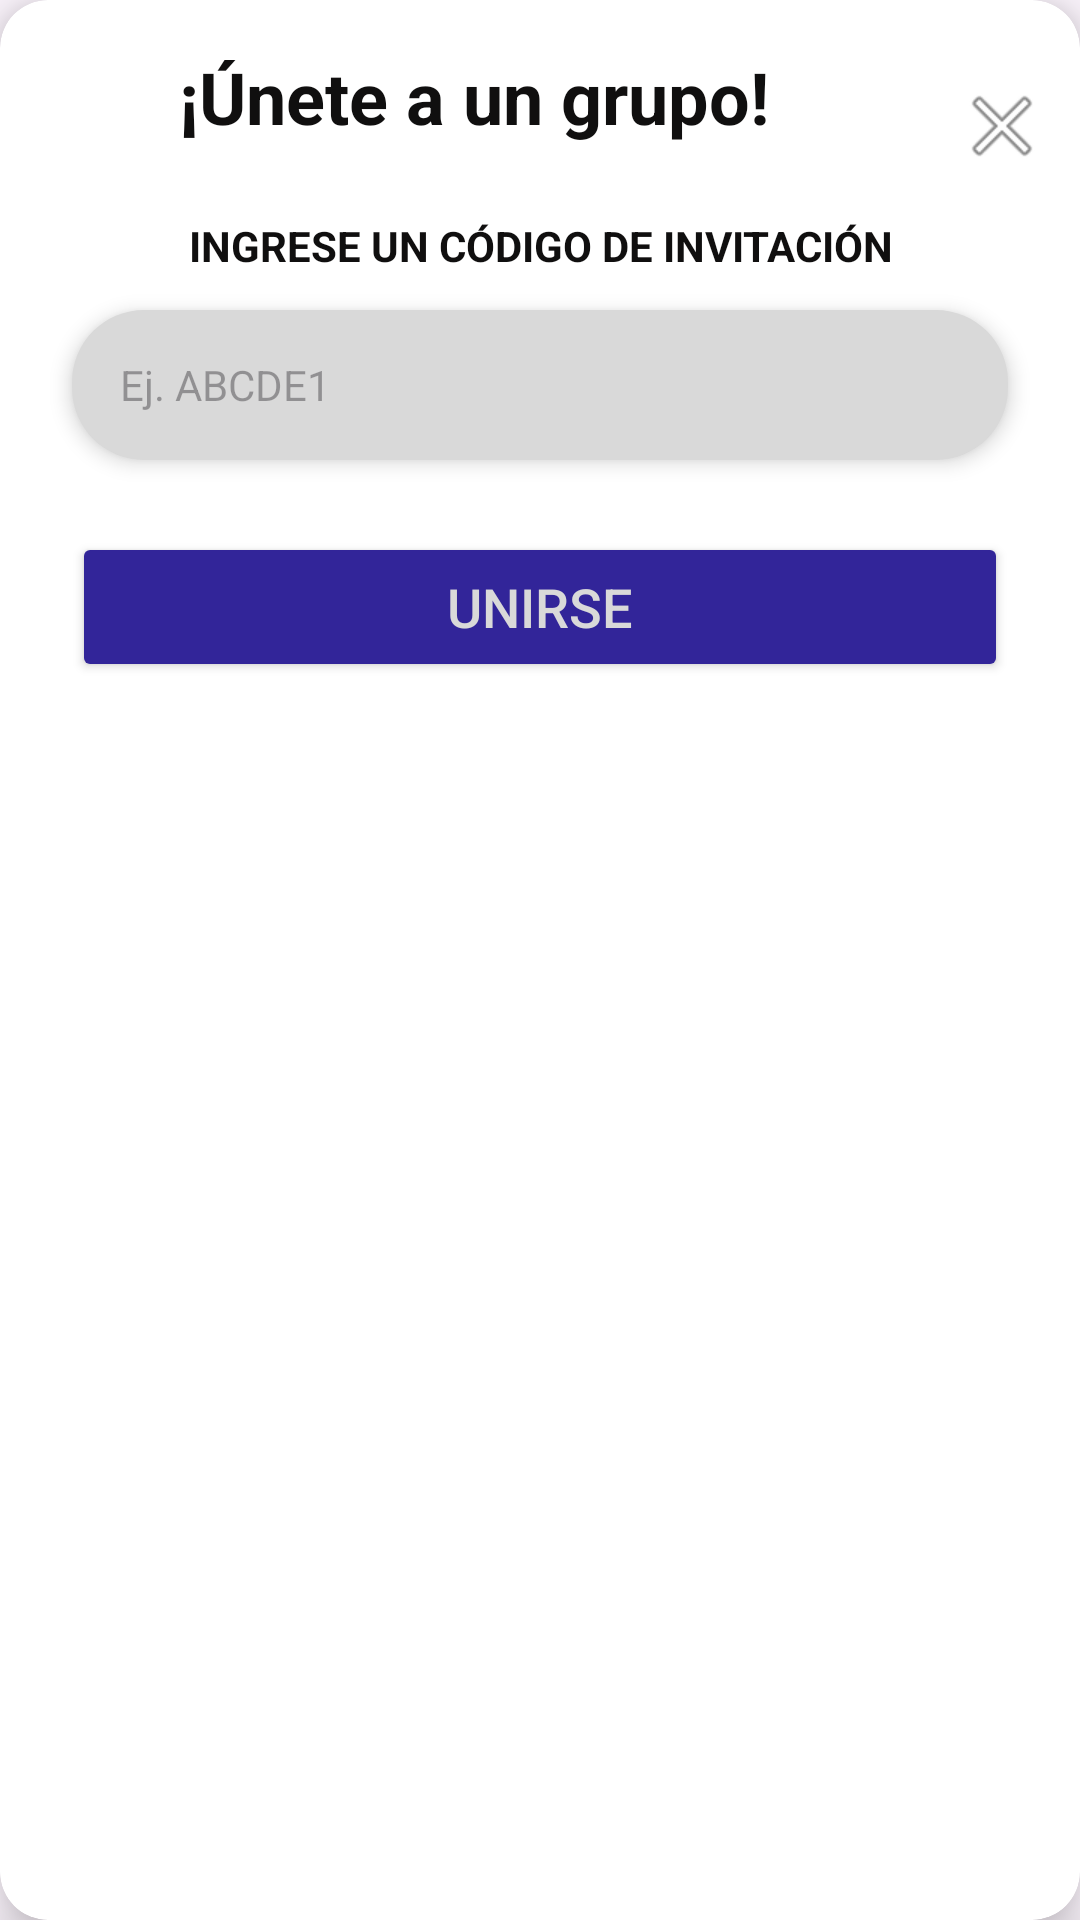

Icons on this 1080 x 1920 Android screen, each with the point to tap as (x=x, y=y):
Cerrar Diálogo: (x=1002, y=126)
